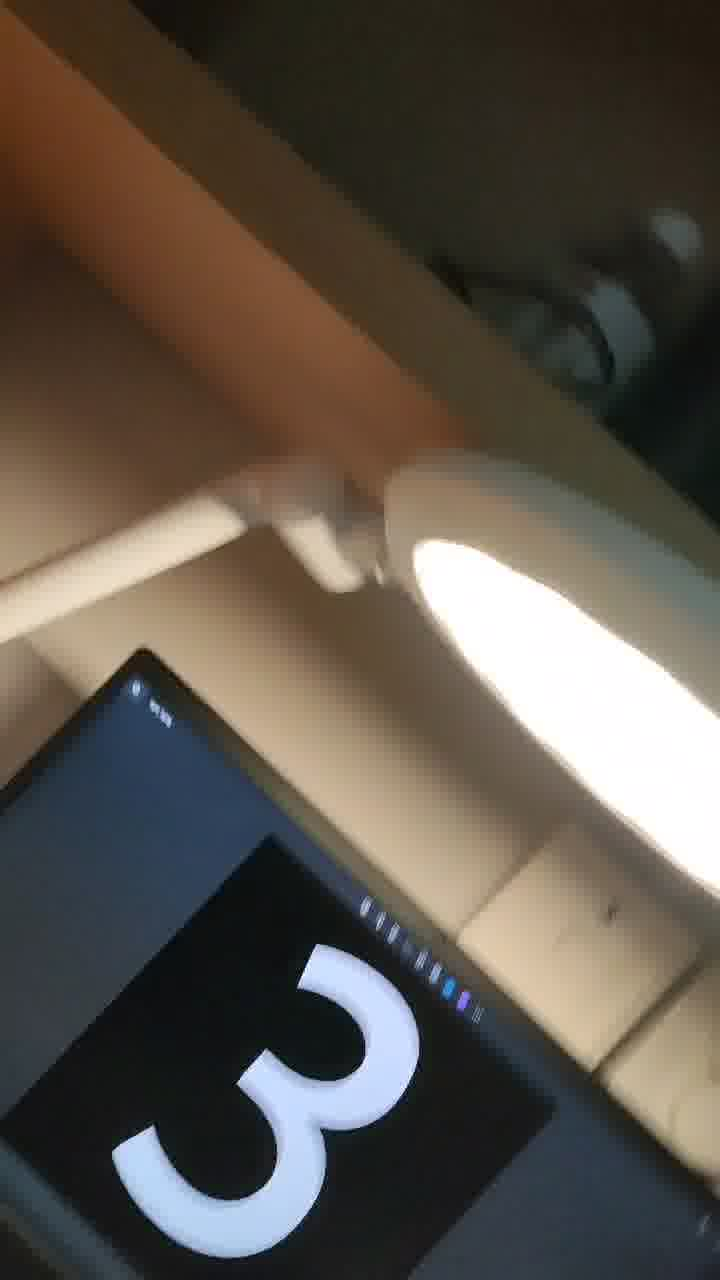three: (84, 841, 405, 1280)
